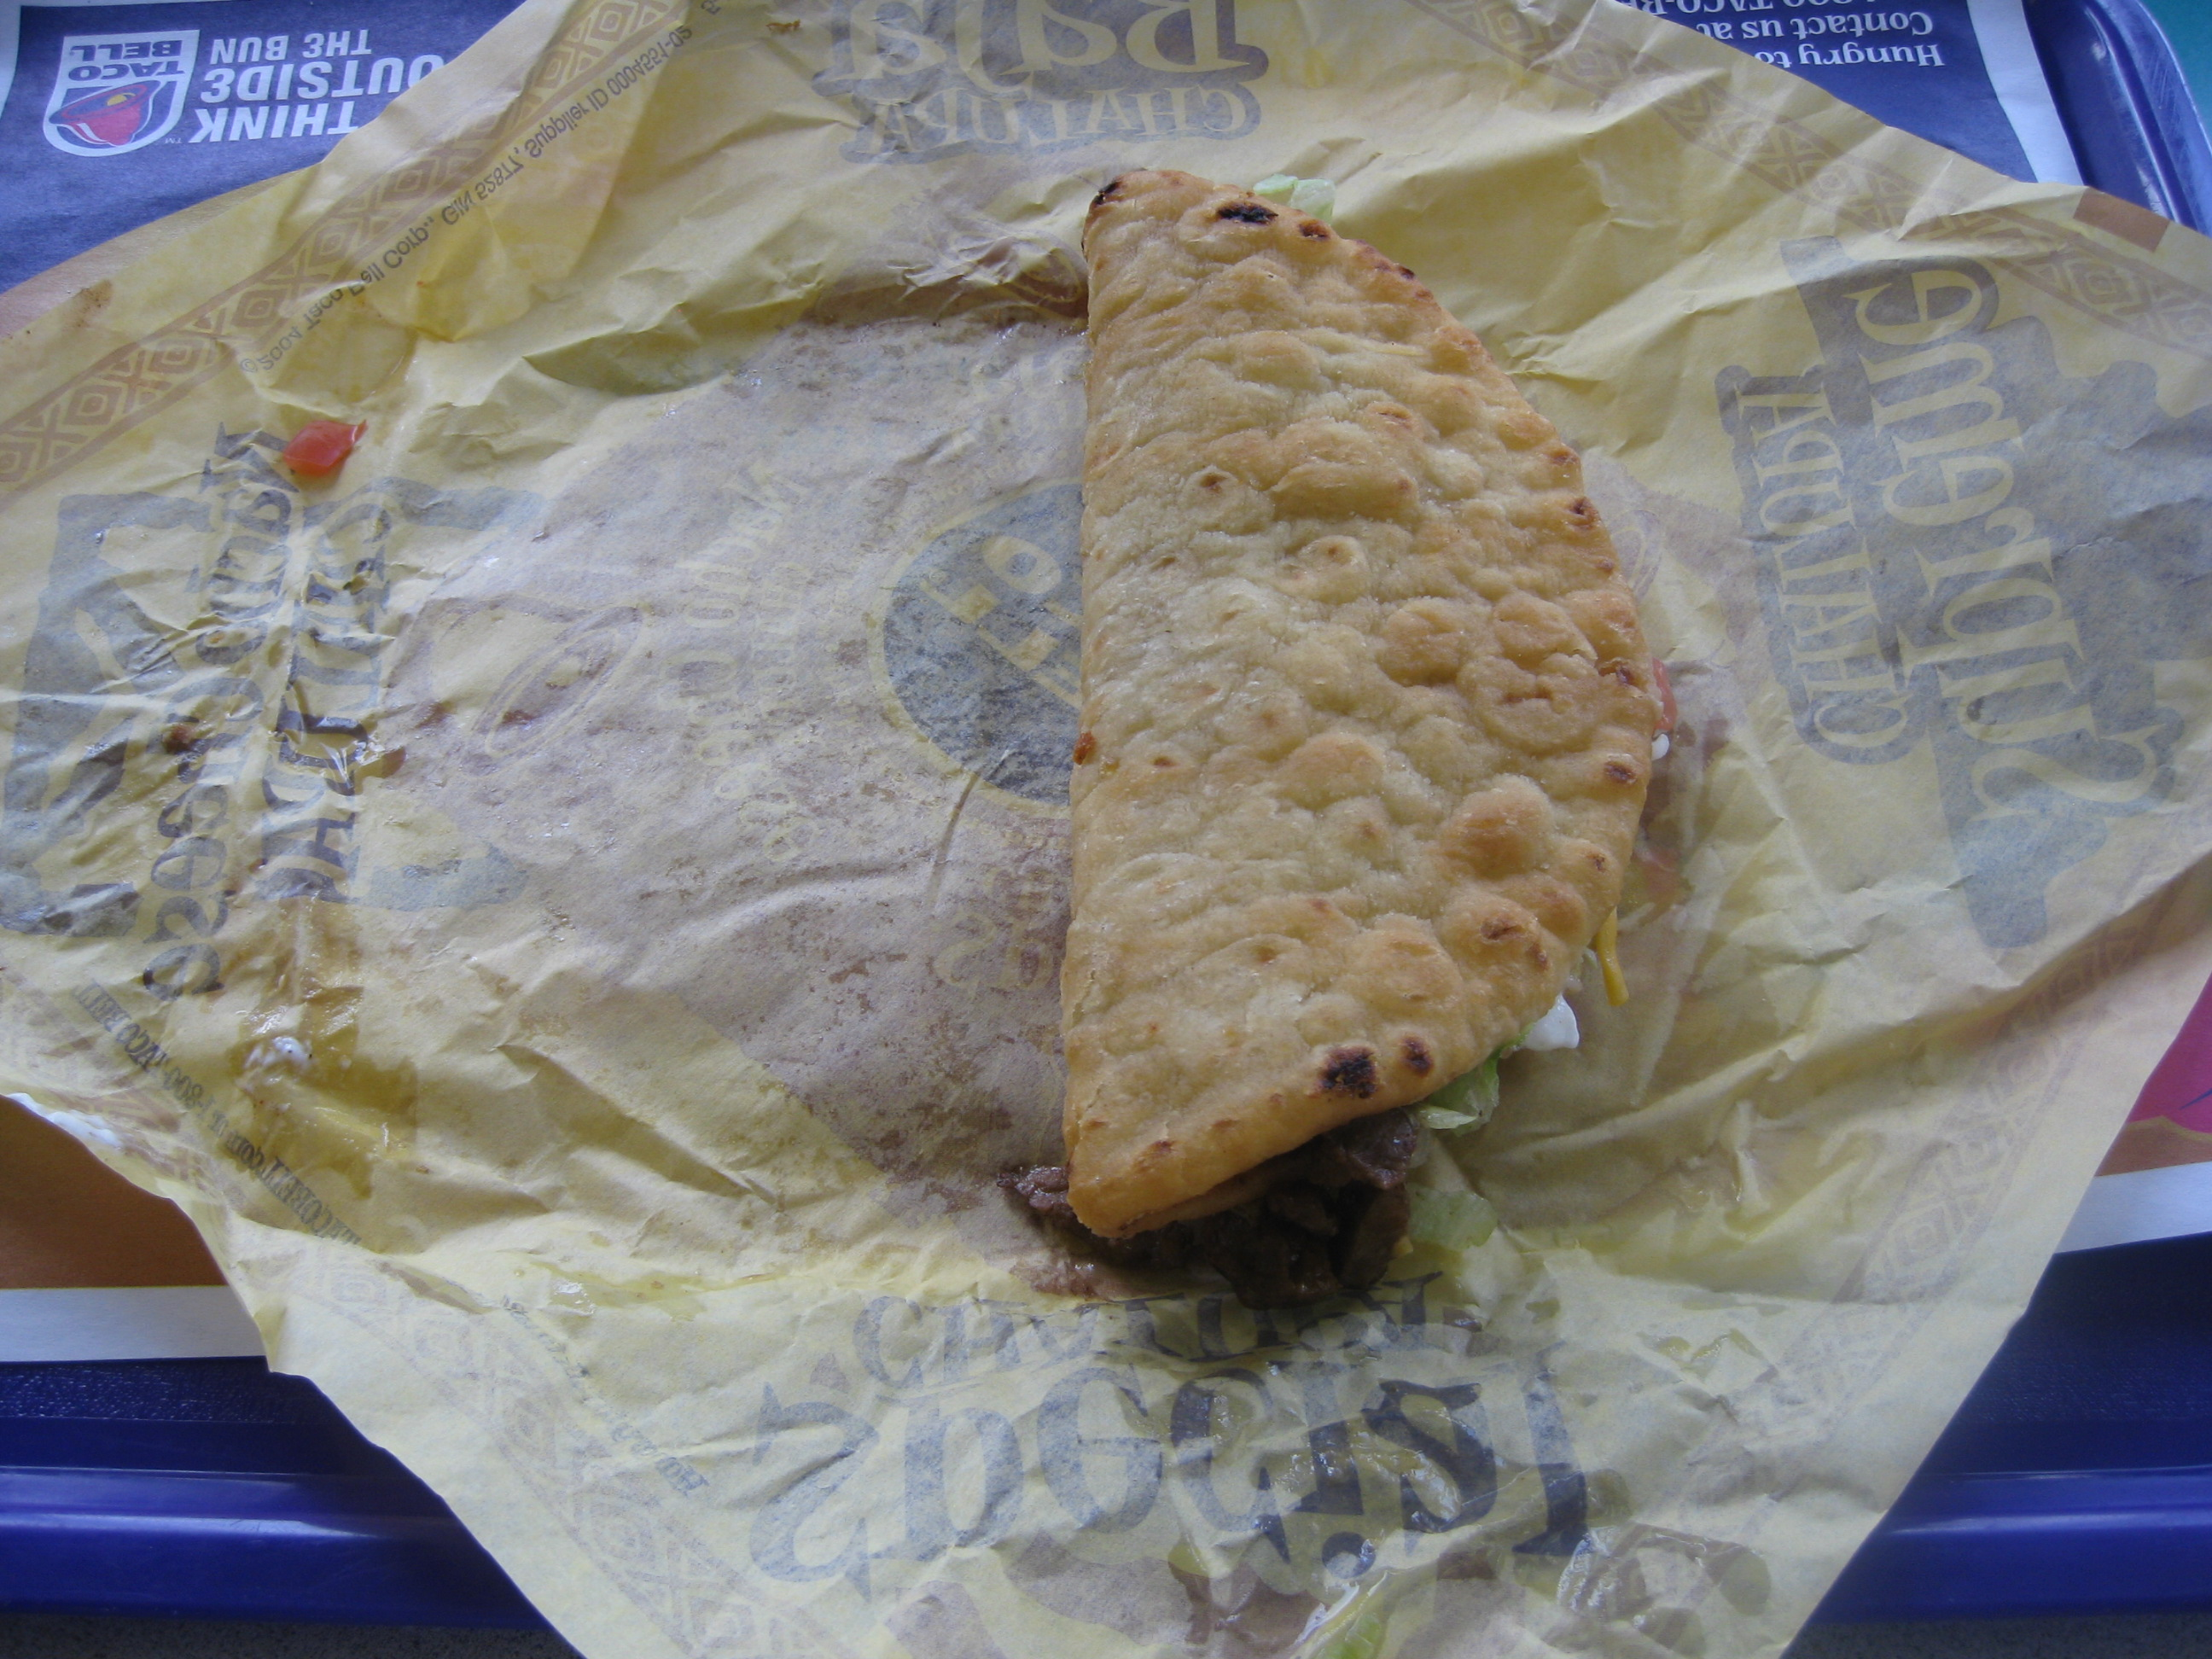taco: (1006, 136, 1674, 1360)
